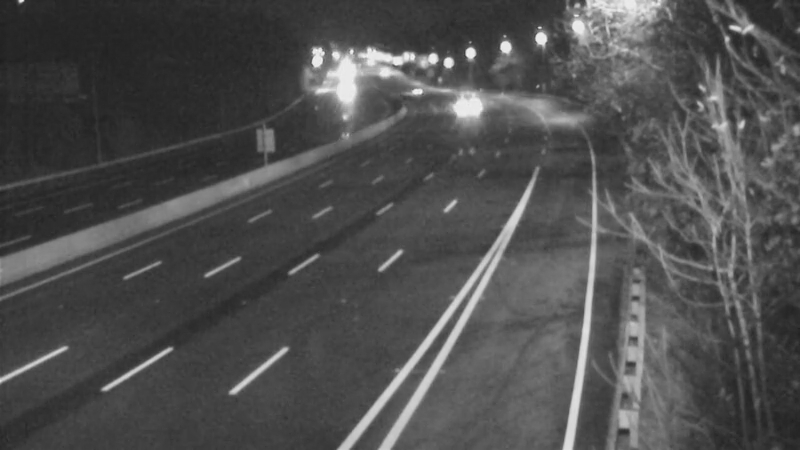vehicle: (397, 65, 447, 115), (450, 76, 500, 126), (318, 67, 368, 117)
